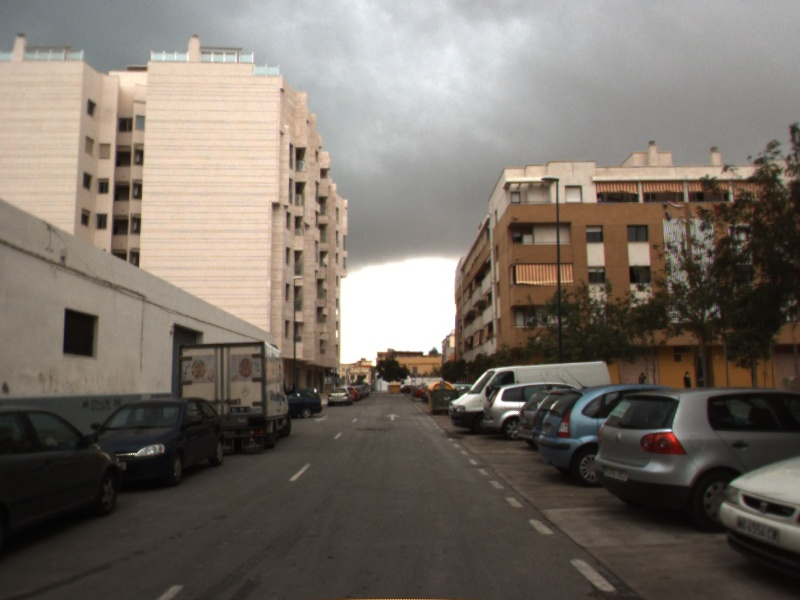STRAIGHT: (383, 411, 402, 422)
